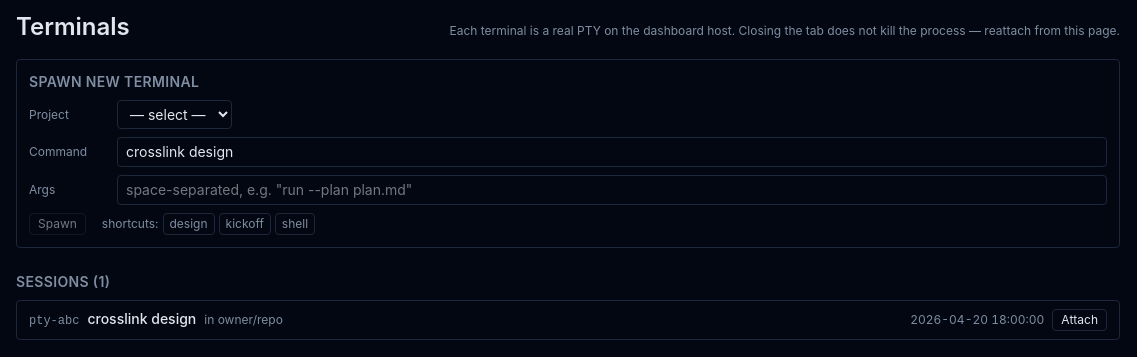
Test: Terminals page › shortcut buttons populate the command field
Click the button "shell".
click(295, 224)  # box [275,213,315,235]
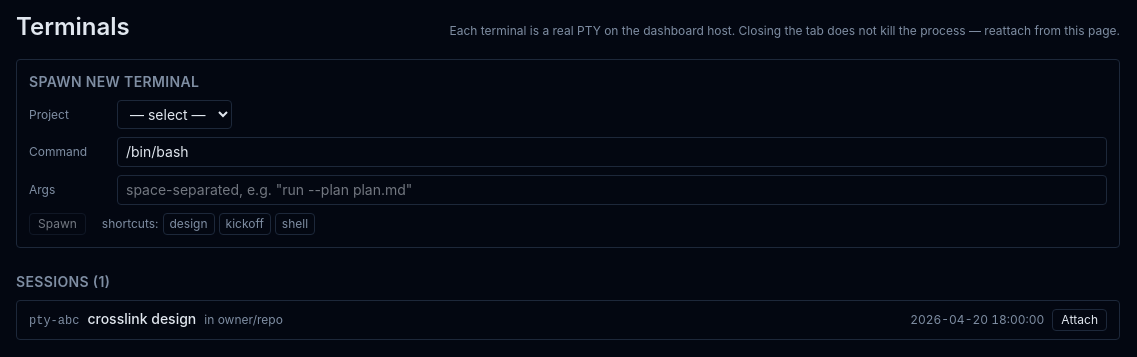
Expected: the field with placeholder "e.g. crosslink design" holds "/bin/bash", [117,137,1107,167]
